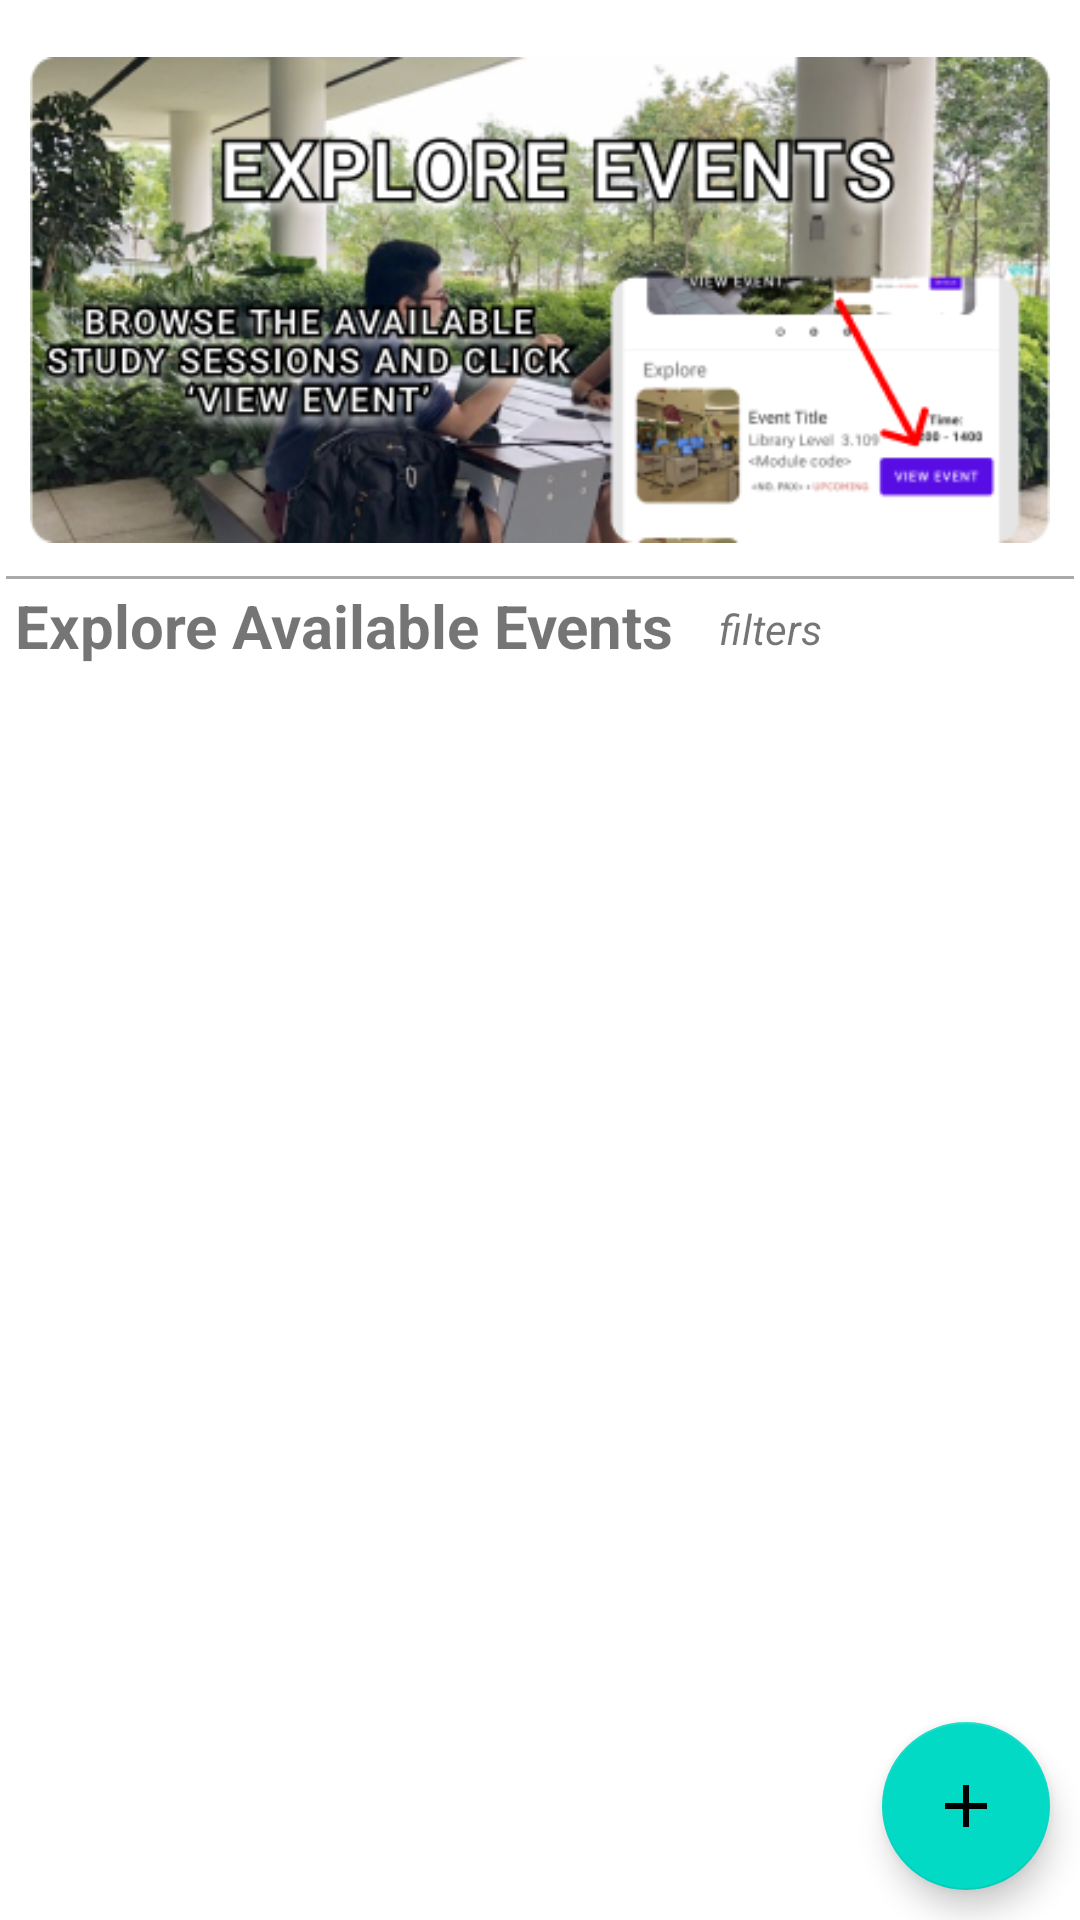

Icon bounding boxes for this 1080 x 1920 phone screenshot, format (x1, y1, x2, y2):
create an event: (882, 1722, 1050, 1890)
